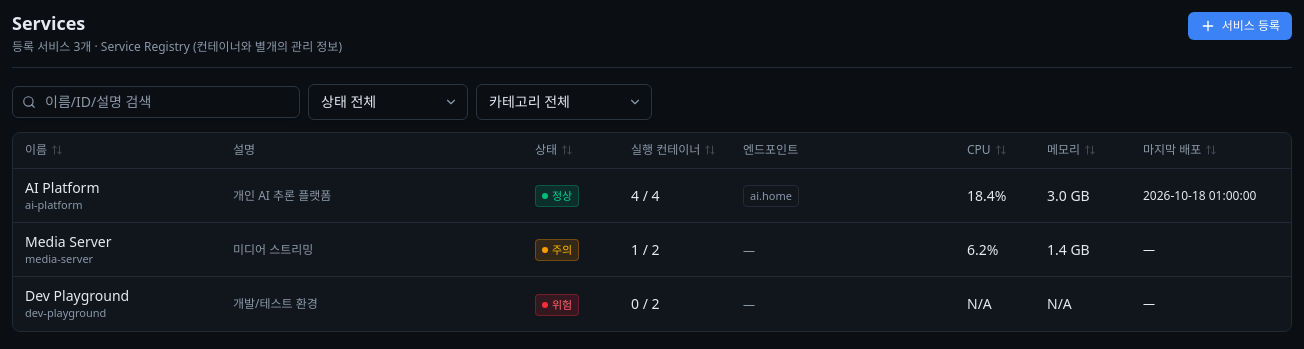
Services 페이지 › 검색어로 목록이 필터링된다
Expected: the text "AI Platform" is shown, top-left (25, 178), bottom-right (100, 197)
In the field named "서비스 검색": coordinates (156, 102) top-left (12, 86), bottom-right (300, 118), type "media"
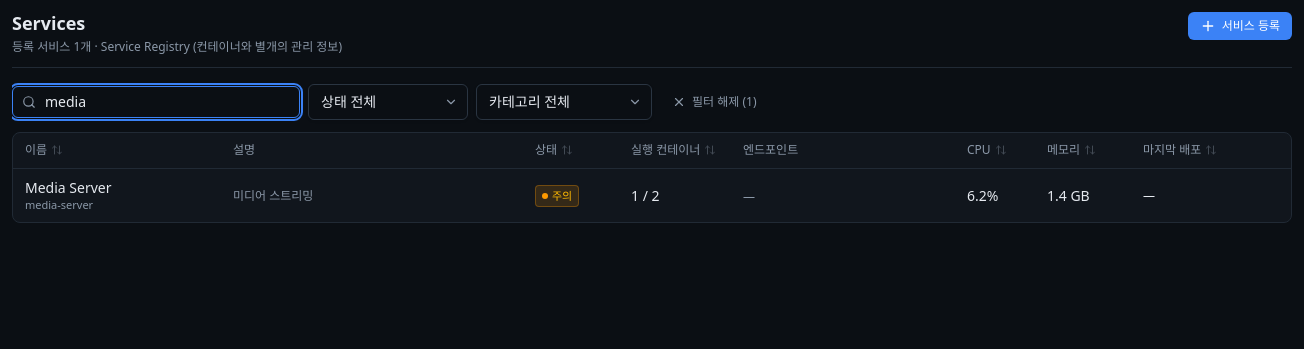
Expected: the text "Media Server" is shown, top-left (25, 178), bottom-right (112, 197)
Now the link "AI Platform" is gone
